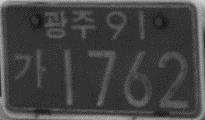1: (61, 45, 74, 107), (136, 7, 148, 42)
2: (156, 49, 191, 109)
6: (122, 50, 154, 107)
7: (86, 47, 118, 109)
9: (105, 9, 128, 41)
가: (11, 47, 46, 90)
광주_O: (43, 9, 96, 40)
